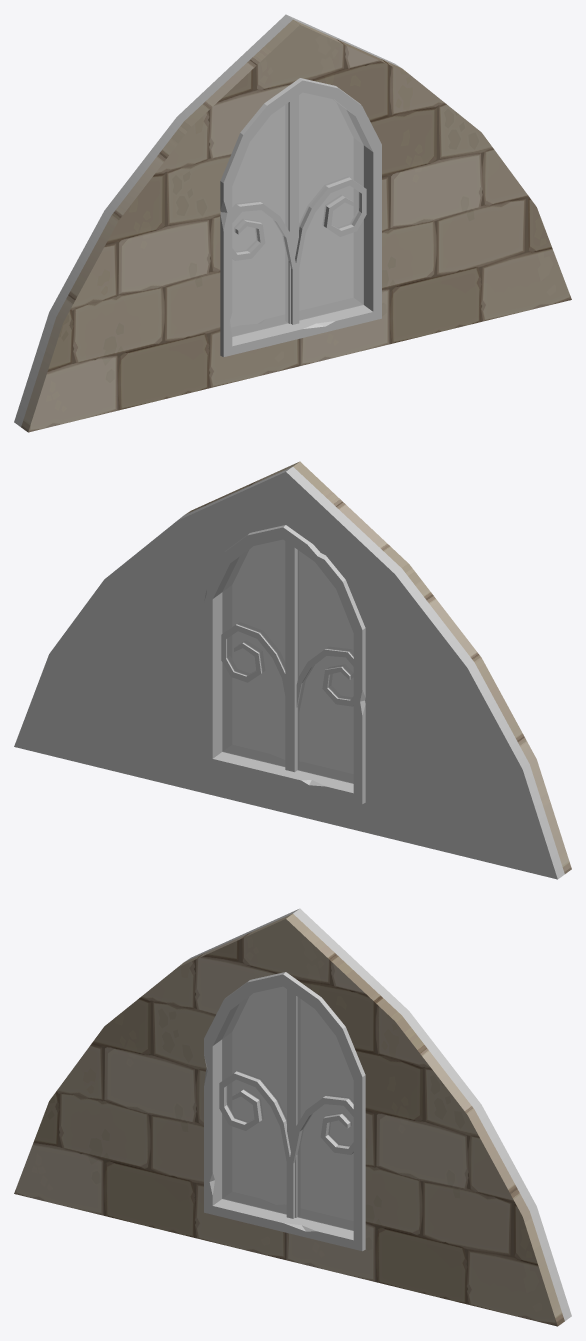
The model's file is SM_Bld_Wall_End_Convex_Large_Window_01.fbx.
The picture shows the model from 3 angles, top to bottom: view 1: azimuth 30°, elevation 25°; view 2: azimuth 150°, elevation 25°; view 3: azimuth 330°, elevation 25°; orthographic projection.
Parts seen in each view (by area): view 1: SM_Bld_Wall_End_Convex_Large_Window_01, SM_Bld_Wall_End_Convex_Large_Window_01_Glass; view 2: SM_Bld_Wall_End_Convex_Large_Window_01, SM_Bld_Wall_End_Convex_Large_Window_01_Glass; view 3: SM_Bld_Wall_End_Convex_Large_Window_01, SM_Bld_Wall_End_Convex_Large_Window_01_Glass.
Boxes of the visible parts, x1,y1,x2,y2 form: SM_Bld_Wall_End_Convex_Large_Window_01: (14, 14, 571, 432); SM_Bld_Wall_End_Convex_Large_Window_01_Glass: (230, 92, 363, 336); SM_Bld_Wall_End_Convex_Large_Window_01: (14, 461, 571, 879); SM_Bld_Wall_End_Convex_Large_Window_01_Glass: (222, 539, 353, 783); SM_Bld_Wall_End_Convex_Large_Window_01: (14, 908, 571, 1326); SM_Bld_Wall_End_Convex_Large_Window_01_Glass: (222, 986, 353, 1230).
Bounding box in the file's own units: 500 × 300 × 31.07.
